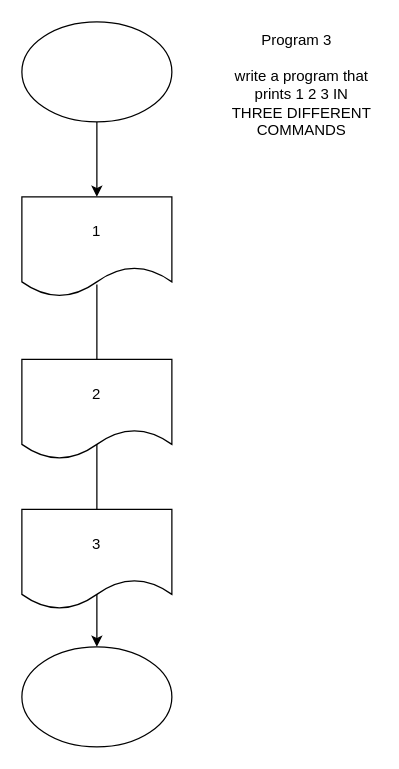
This 399x769 diagram has some shape labels left out. Here are the shapes that lost their labels. From the top down, the centre of each, then its label:
point (96, 71): START
point (96, 696): STOP
